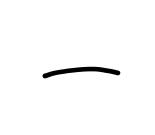minus: (42, 66, 120, 79)
